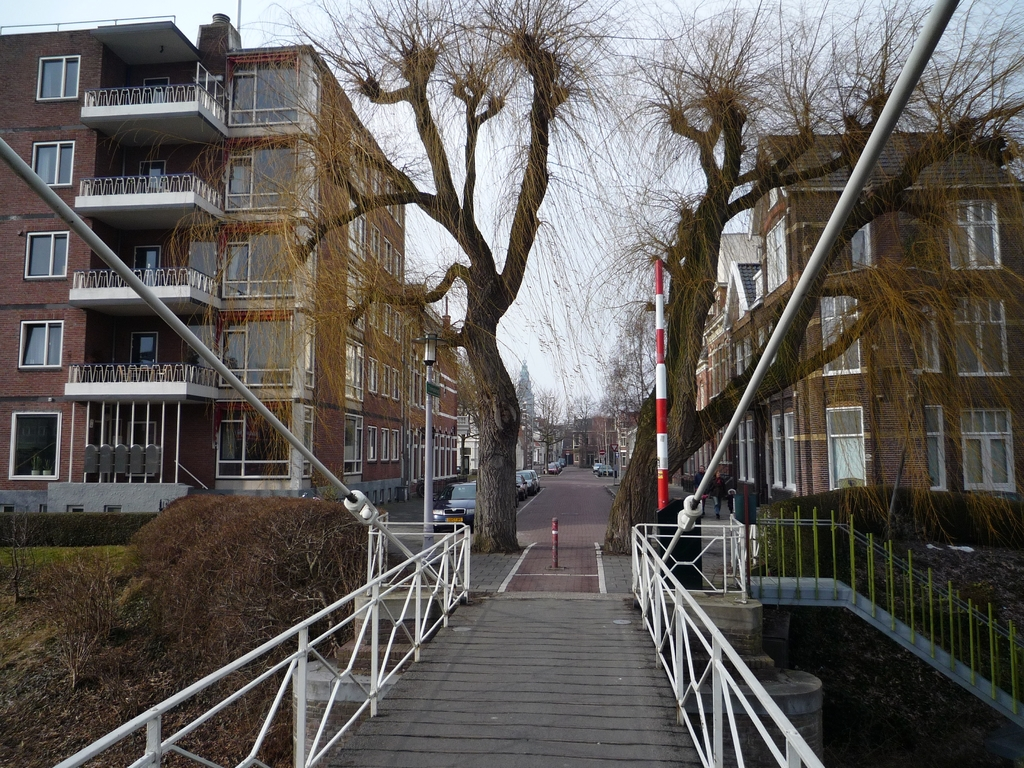Tree: (96, 0, 1023, 560)
